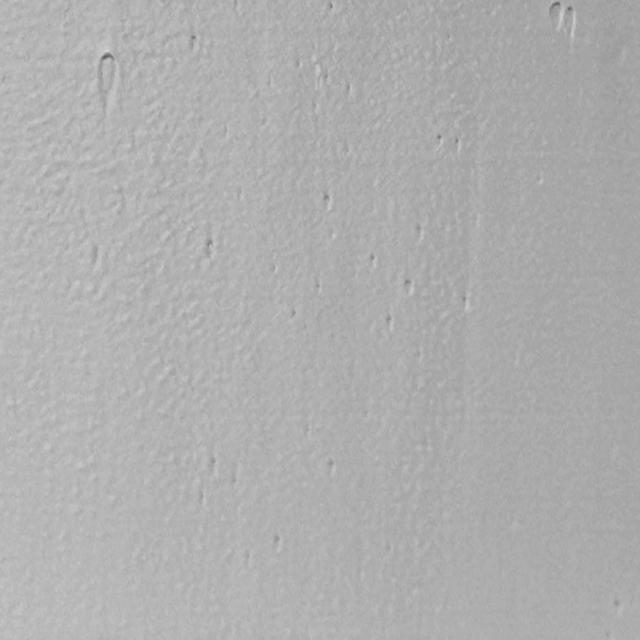pin holes: (93, 48, 125, 106), (545, 2, 565, 32), (561, 6, 581, 34), (268, 534, 288, 559), (206, 453, 224, 478), (609, 597, 628, 620), (322, 458, 341, 480), (317, 190, 335, 213), (383, 312, 399, 334), (402, 277, 418, 297), (203, 237, 217, 258), (187, 35, 201, 54), (342, 82, 356, 100), (412, 223, 425, 242), (325, 0, 340, 16), (461, 294, 474, 312), (312, 280, 324, 298), (434, 132, 446, 148), (288, 306, 300, 322), (369, 254, 380, 271), (452, 135, 462, 152), (270, 261, 280, 278)
